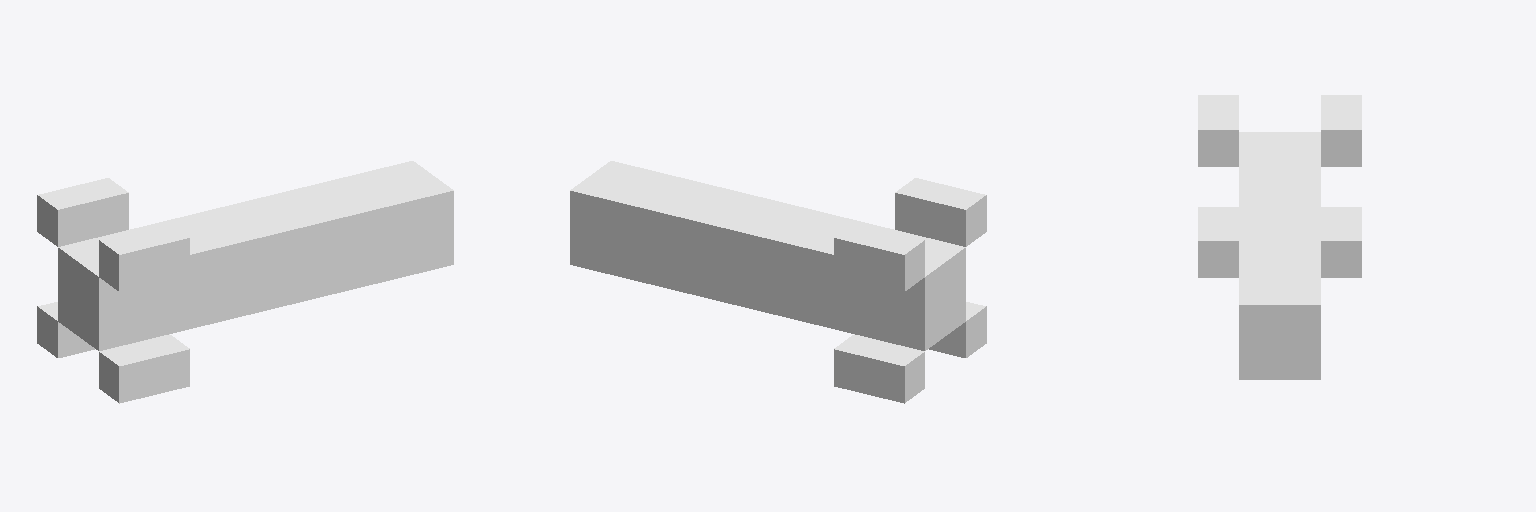
The model's file is SandP-Missile.obj.
The picture shows the model from 3 angles: view 1: azimuth 30°, elevation 25°; view 2: azimuth 150°, elevation 25°; view 3: azimuth 270°, elevation 25°; orthographic projection.
Visible parts, largest first — view 1: SandP_Missile; view 2: SandP_Missile; view 3: SandP_Missile.
Boxes of the visible parts, box(x1,y1,x2,y2) form: SandP_Missile: box(37, 161, 453, 403); SandP_Missile: box(570, 161, 986, 403); SandP_Missile: box(1198, 95, 1361, 379).
Bounding box in the file's own units: 10 × 4 × 4.